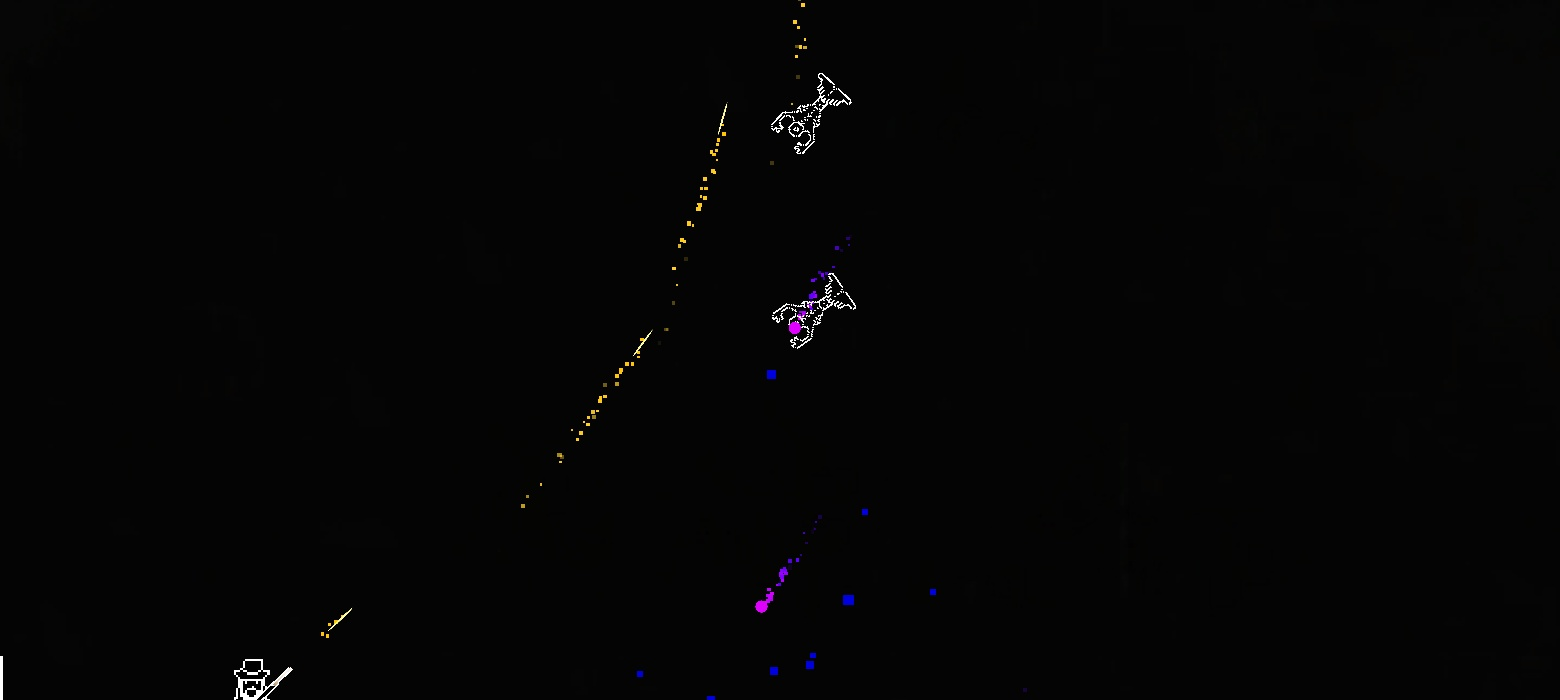enemy: (771, 72, 852, 155), (772, 272, 857, 349)
